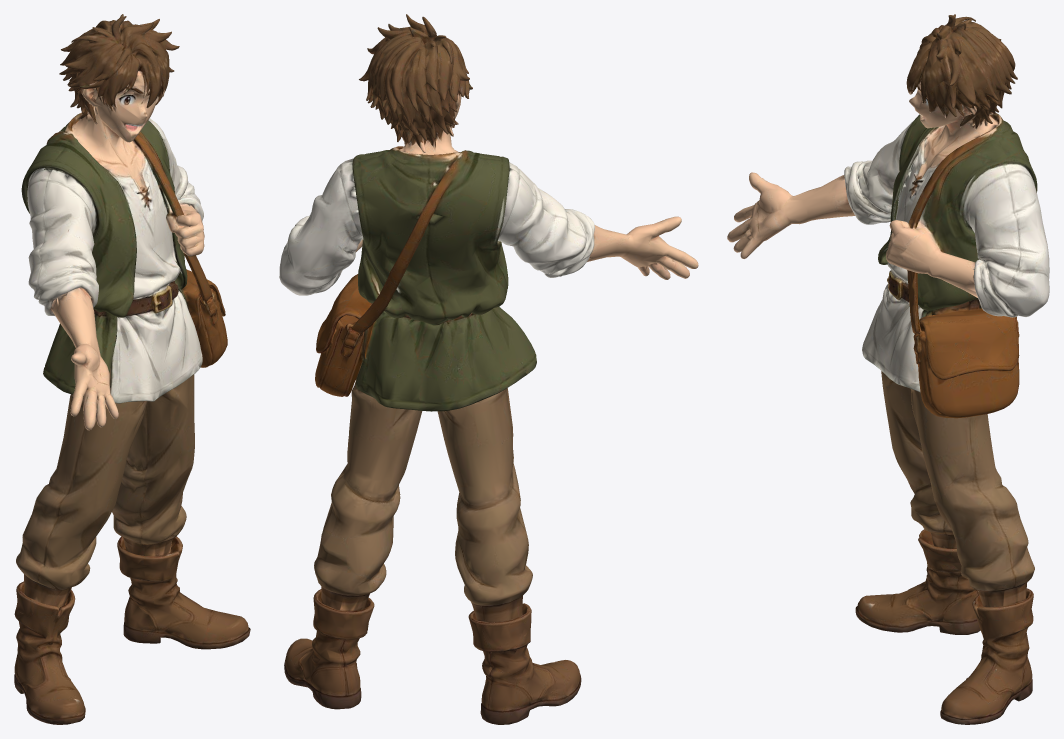
Rendered from humano.glb.
3 renders of one model, left to right at view 1: azimuth 30°, elevation 25°; view 2: azimuth 150°, elevation 25°; view 3: azimuth 270°, elevation 25°, orthographic. The views are drawn at different scales.
Bounding box in the file's own units: 0.8725 × 1.9 × 0.8516.
Materials: 1 (1 with a texture image).
